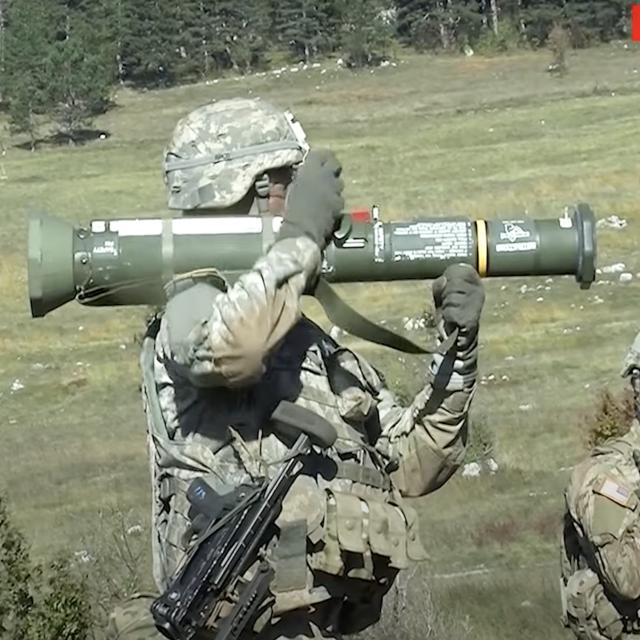bazooka: (17, 196, 611, 352)
